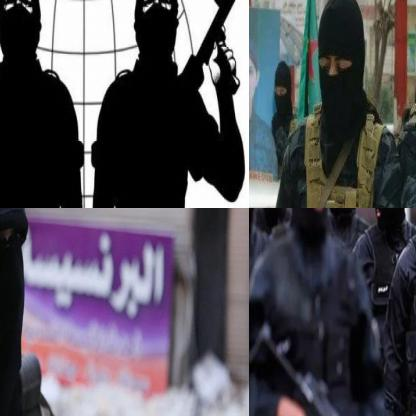rifle: (249, 323, 388, 415), (180, 0, 248, 98)
